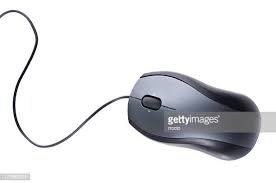mouse: (121, 66, 261, 160)
